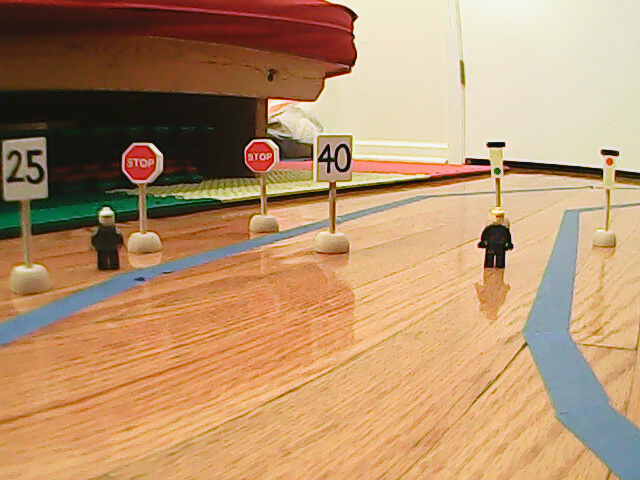Green Traffic Light: (487, 139, 508, 181)
Person: (479, 206, 516, 270), (91, 206, 124, 271)
Red Traffic Light: (597, 148, 622, 192)
Speed Limit 25: (3, 138, 50, 201)
Speed Limit 40: (313, 134, 352, 185)
Stop Sign: (121, 143, 164, 185), (242, 137, 282, 175)
